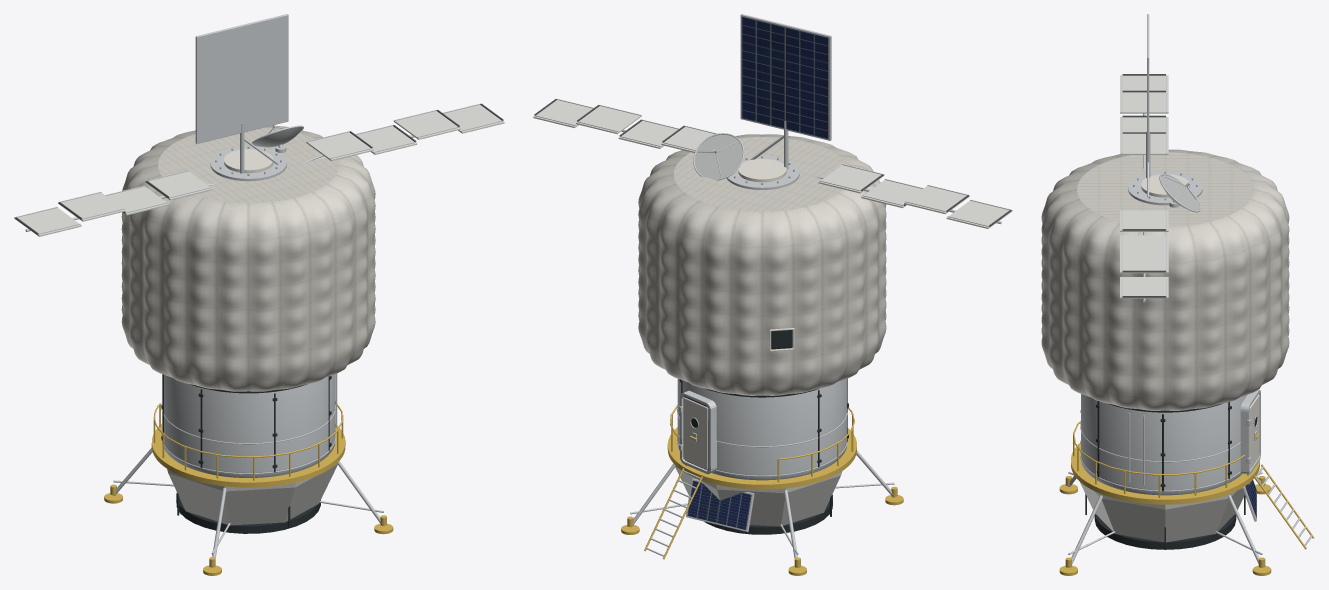
Rendered from hab.glb.
3 views of the same model, side by side, from view 1: azimuth 30°, elevation 25°; view 2: azimuth 150°, elevation 25°; view 3: azimuth 270°, elevation 25° (orthographic). The views are drawn at different scales.
Visible parts, largest first — view 1: inflatable, lower_hull, lander, solar_array, thermal_wings, roof_hardware, access; view 2: inflatable, lower_hull, lander, solar_array, thermal_wings, roof_hardware, eva_hatch, access; view 3: inflatable, lower_hull, lander, thermal_wings, roof_hardware, eva_hatch, access, solar_array.
Part boxes in pixels (x1,y1,x2,y2): inflatable: (121,125,375,391); lower_hull: (161,373,337,477); lander: (104,424,393,575); solar_array: (195,14,288,173); thermal_wings: (14,103,504,236); roof_hardware: (210,125,303,181); access: (153,401,343,480); inflatable: (638,134,886,395); lower_hull: (677,378,848,480); lander: (621,427,903,575); solar_array: (740,14,831,169); thermal_wings: (533,99,1012,228); roof_hardware: (693,133,799,189); eva_hatch: (679,390,716,474); access: (644,405,854,559); inflatable: (1041,149,1289,410); lower_hull: (1080,394,1247,495); lander: (1059,442,1271,575); thermal_wings: (1120,74,1168,302); roof_hardware: (1128,171,1202,212); eva_hatch: (1240,389,1260,474); access: (1073,421,1314,549); solar_array: (1146,14,1150,196).
Bounding box in the file's own units: 13.68 × 14 × 7.1.
4 materials, 2 textured.
